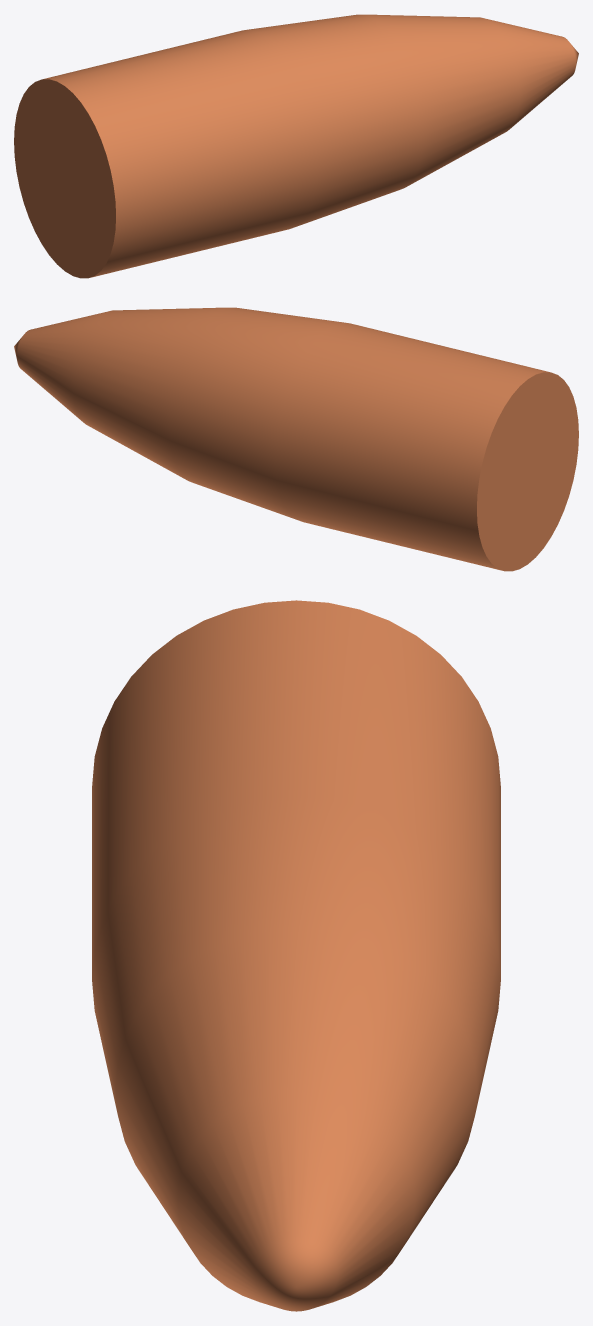
Rendered from bala_comum.obj.
The picture shows the model from 3 angles, top to bottom: view 1: azimuth 30°, elevation 25°; view 2: azimuth 150°, elevation 25°; view 3: azimuth 270°, elevation 25°; orthographic projection. The views are drawn at different scales.
Size of the model in its own units: 0.092 by 0.0317 by 0.0317.
